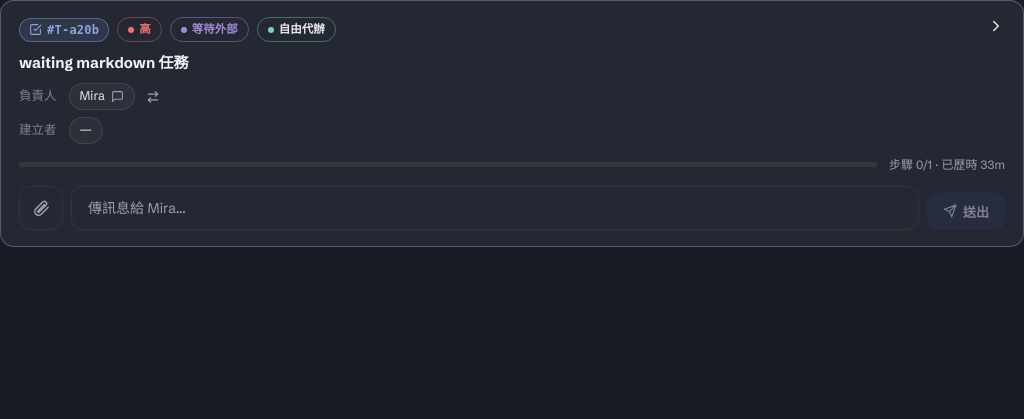
Test case: step 等待外部 reason markdown render (T-a20b shapes, T-c514 surface) › sanitizes a malicious reason — no raw HTML injected, script text stays literal
Click the button with test id "task-card": {"x": 512, "y": 232} [0,0,1023,247]
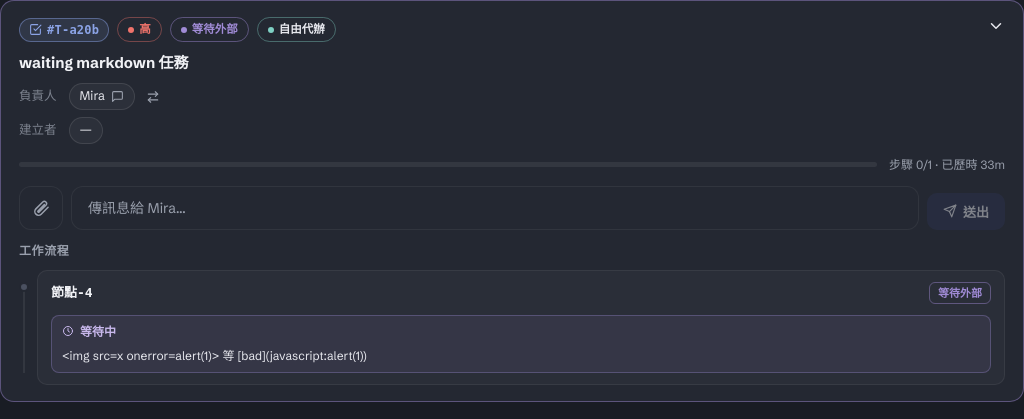
Result: the element with class "task-step__waiting-md" shows "[bad](javascript:alert(1))" at [62,348,367,363]
